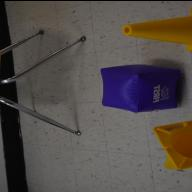cone: (121, 5, 192, 51), (152, 119, 192, 170)
cube: (100, 63, 180, 112)
